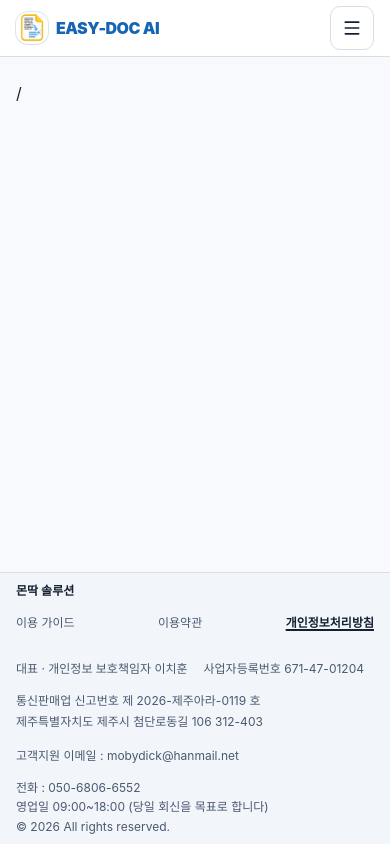
Test: 모바일 메뉴 ARIA › 사용량 선택 후 메뉴를 닫는다 (현재 페이지 포함)
The width and height of the screenshot is (390, 844).
Click the button named "메뉴 열기".
click(352, 28)  # box [330,6,374,50]
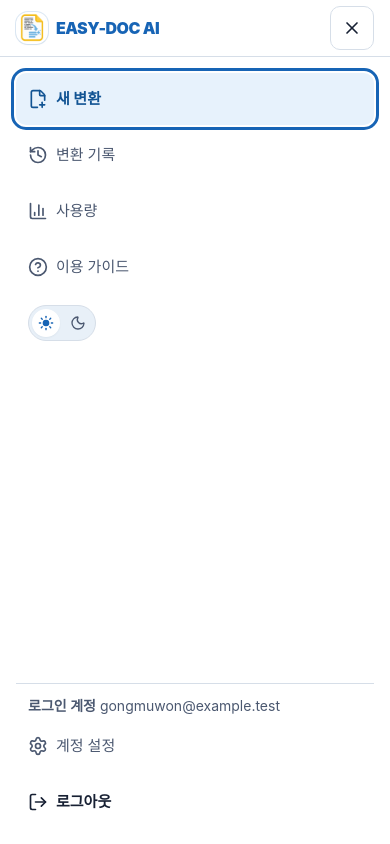
Click the link "사용량".
click(63, 211)  # box [28,201,97,221]
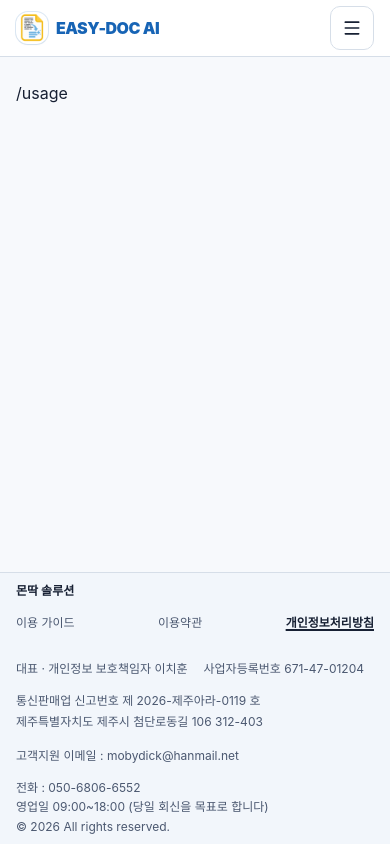
Expected: the text with test id "location" reads "/usage", [16,83,68,103]
Expected: the button named "메뉴 열기" is collapsed, [330,6,374,50]
